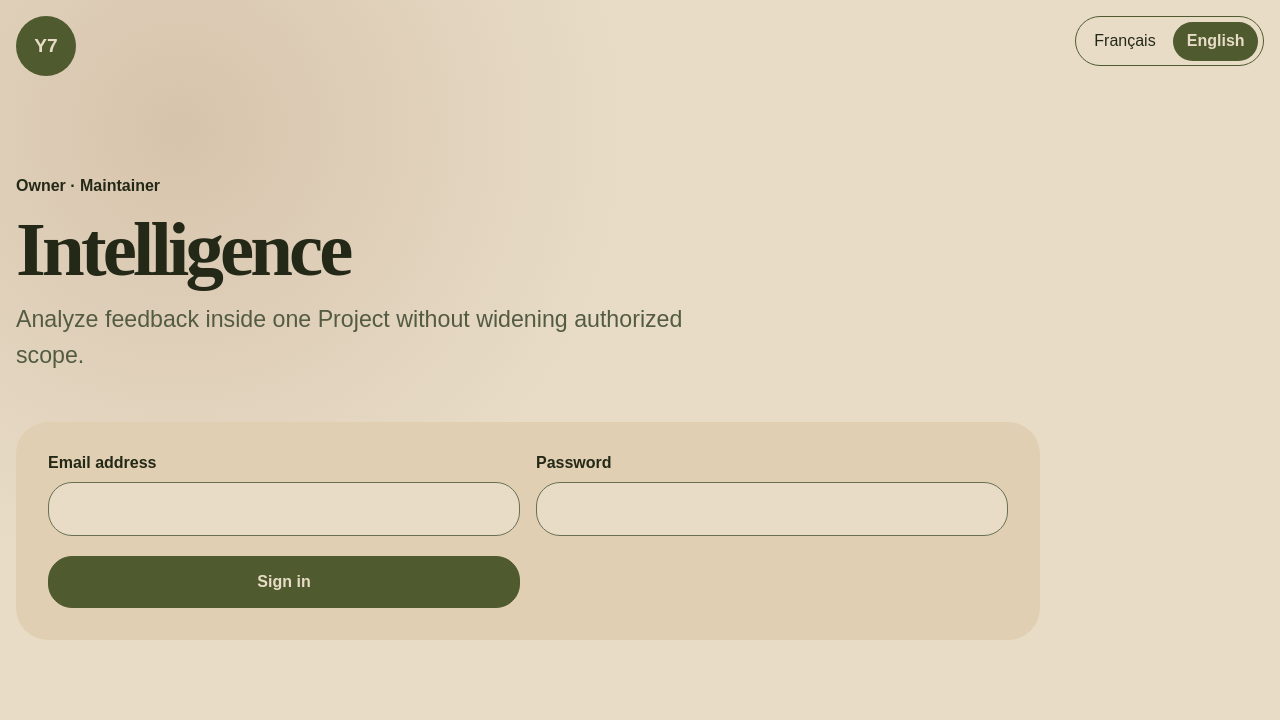
Intelligence experience › BDD-INT-214 exposes safe denial feedback
The image size is (1280, 720).
Type "owner@example.test" into the field labelled "Email address" at {"x": 284, "y": 509}, box [48,482,520,536]
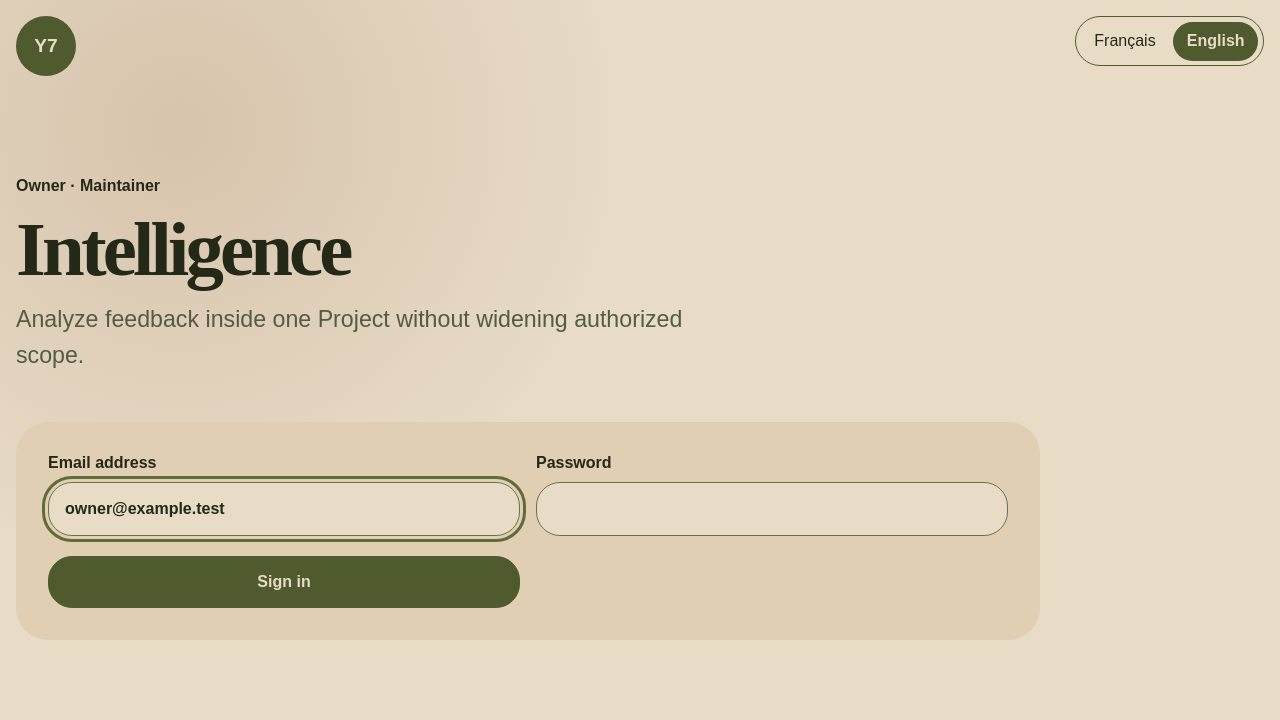
Type "wrong-value" into the password field labelled "Password" at {"x": 772, "y": 509}, box [536,482,1008,536]
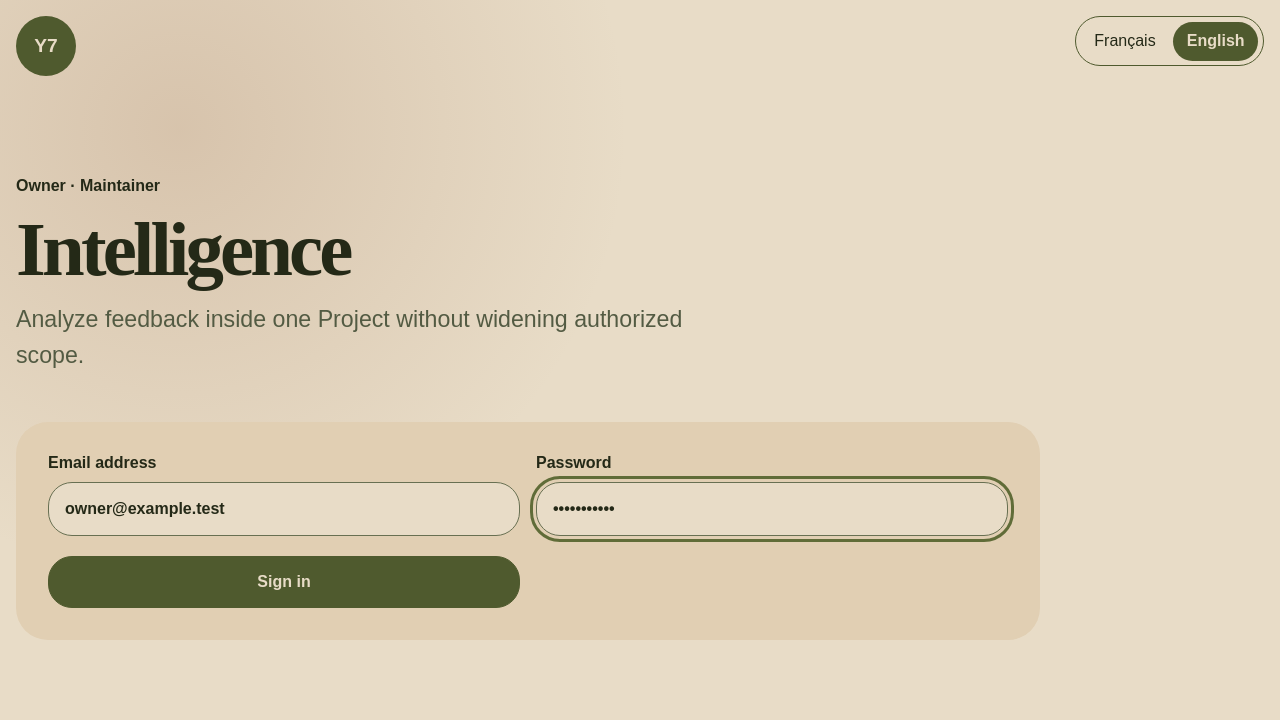
Click the button "Sign in" at {"x": 284, "y": 582}, box [48,556,520,608]
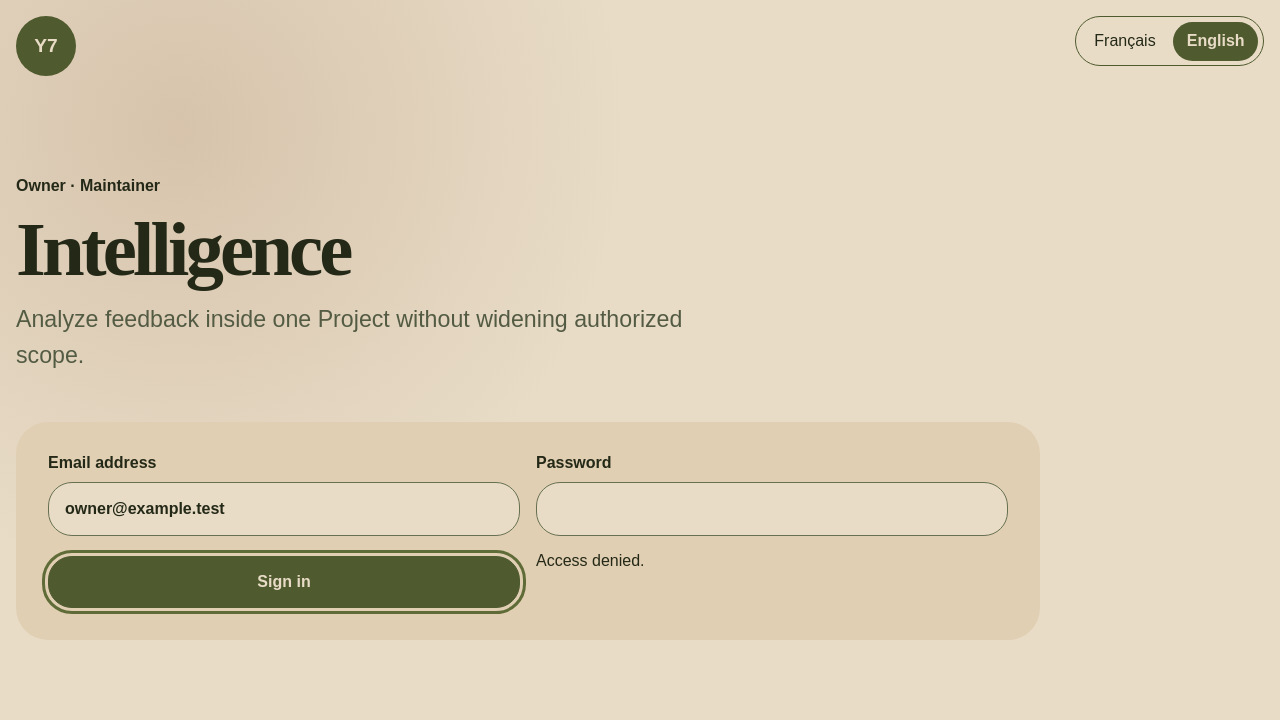
Now the message reads "Access denied.", box [536,552,644,569]
